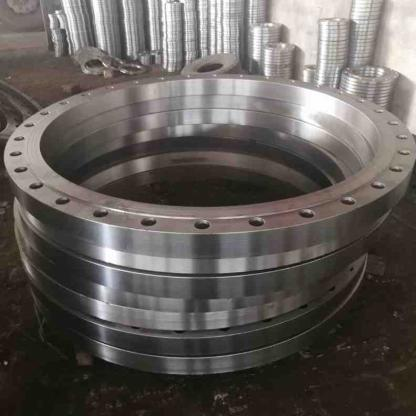FOD: (0, 66, 415, 264)
